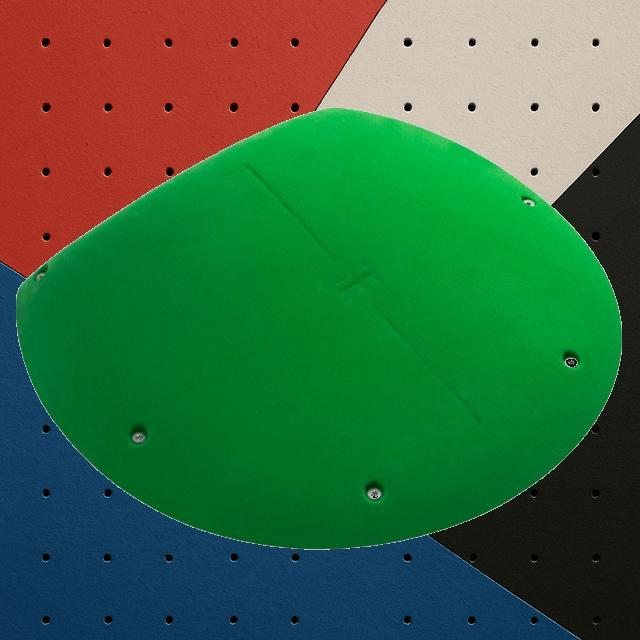Jug: (14, 105, 622, 549)
